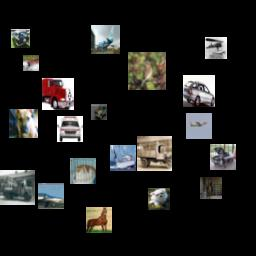airplane: (91, 25, 120, 54), (186, 113, 212, 139), (38, 183, 64, 209), (205, 37, 227, 59)
automobile: (183, 75, 215, 107), (57, 116, 83, 142), (210, 144, 236, 170), (11, 29, 30, 48), (91, 104, 107, 120)
bird: (128, 52, 166, 90)
cat: (70, 158, 96, 184)
dog: (9, 109, 38, 138), (148, 188, 170, 210)
ship: (110, 145, 136, 171), (23, 55, 39, 71)
truck: (137, 136, 172, 171), (0, 170, 35, 205), (42, 78, 74, 110)
